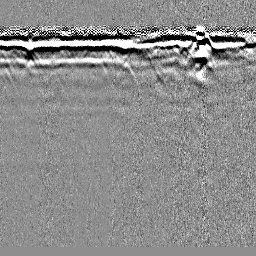cavity: (115, 60, 137, 81)
